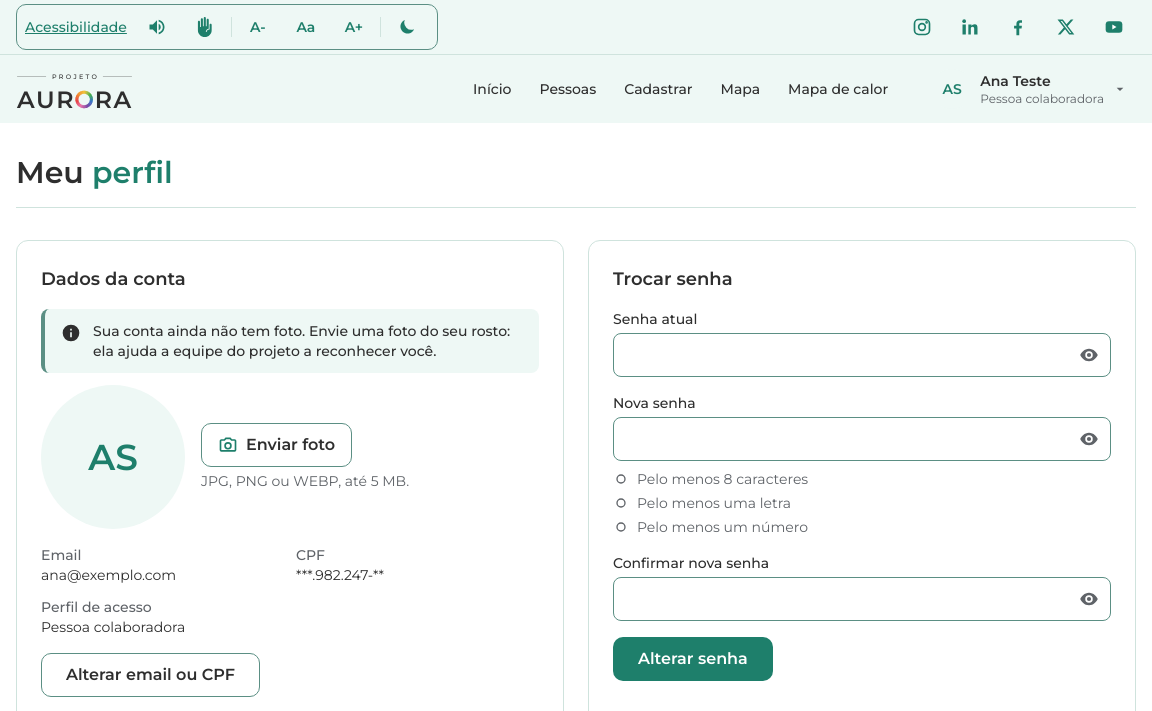
Meu perfil: alterar email ou CPF › mostra no campo a senha incorreta devolvida pela API
Click the button "Alterar email ou CPF".
click(150, 675)  # box [41,653,260,697]
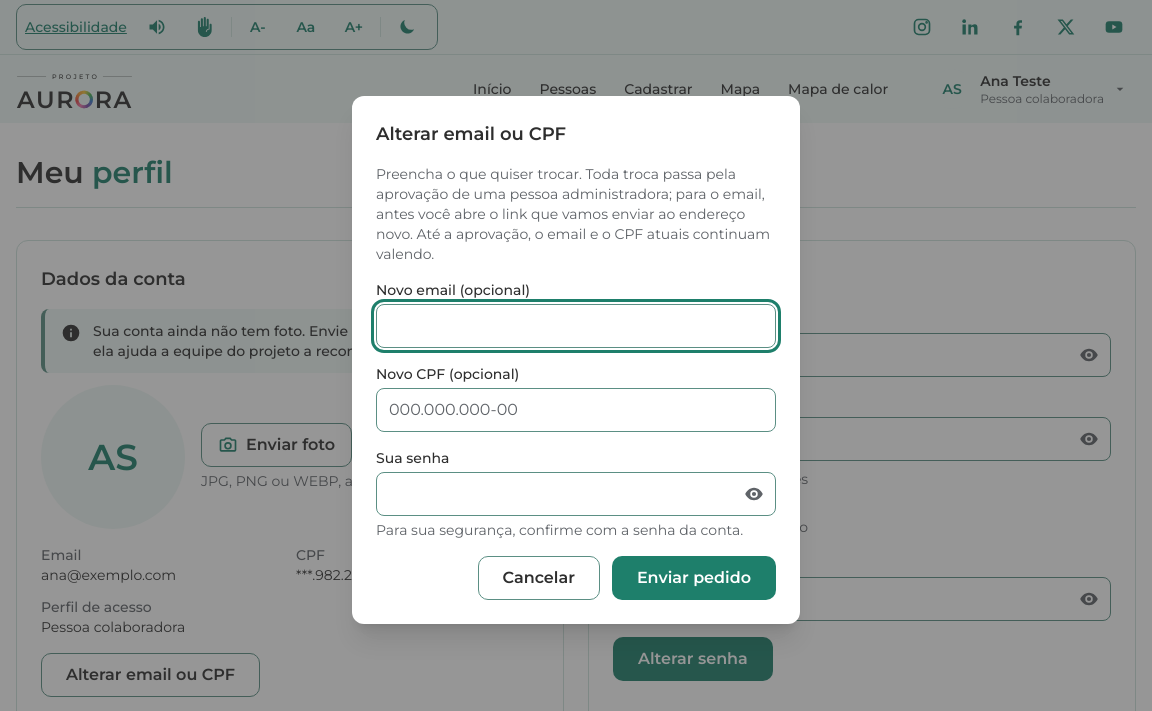
Type "x@exemplo.com" into the field labelled "Novo email (opcional)".
click(576, 326); type("x@exemplo.com")  # box [376,304,776,348]
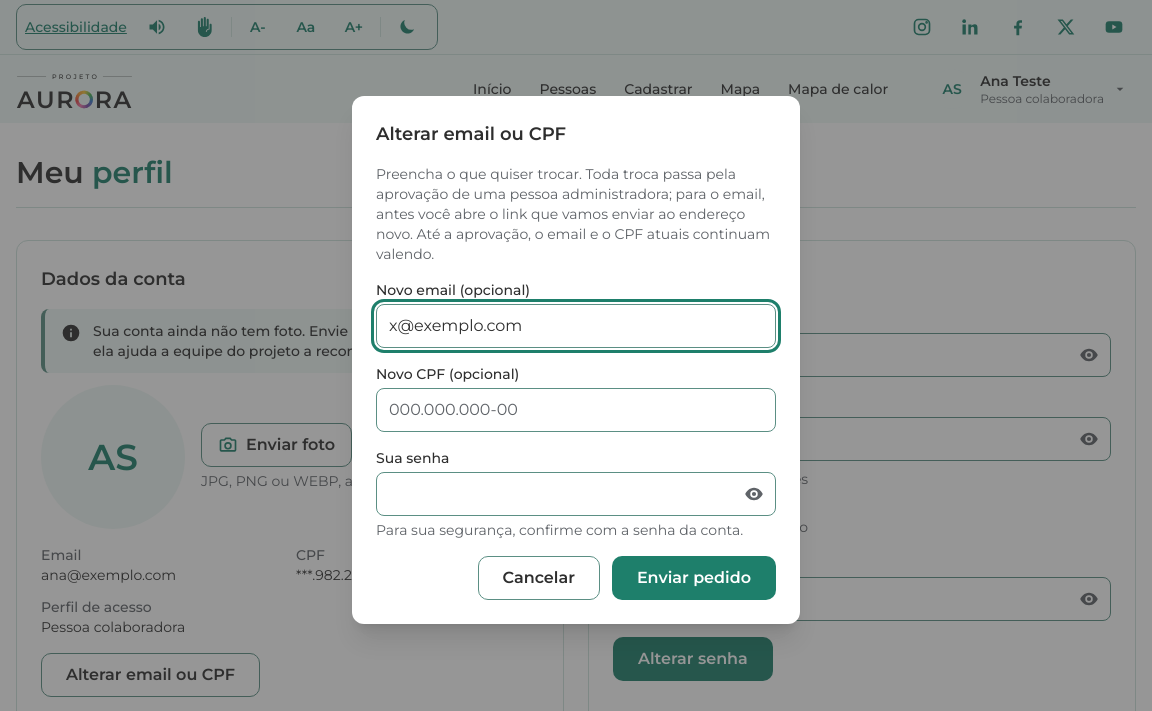
Type "errada123" into the password field labelled "Sua senha".
click(576, 494); type("errada123")  # box [376,472,776,516]
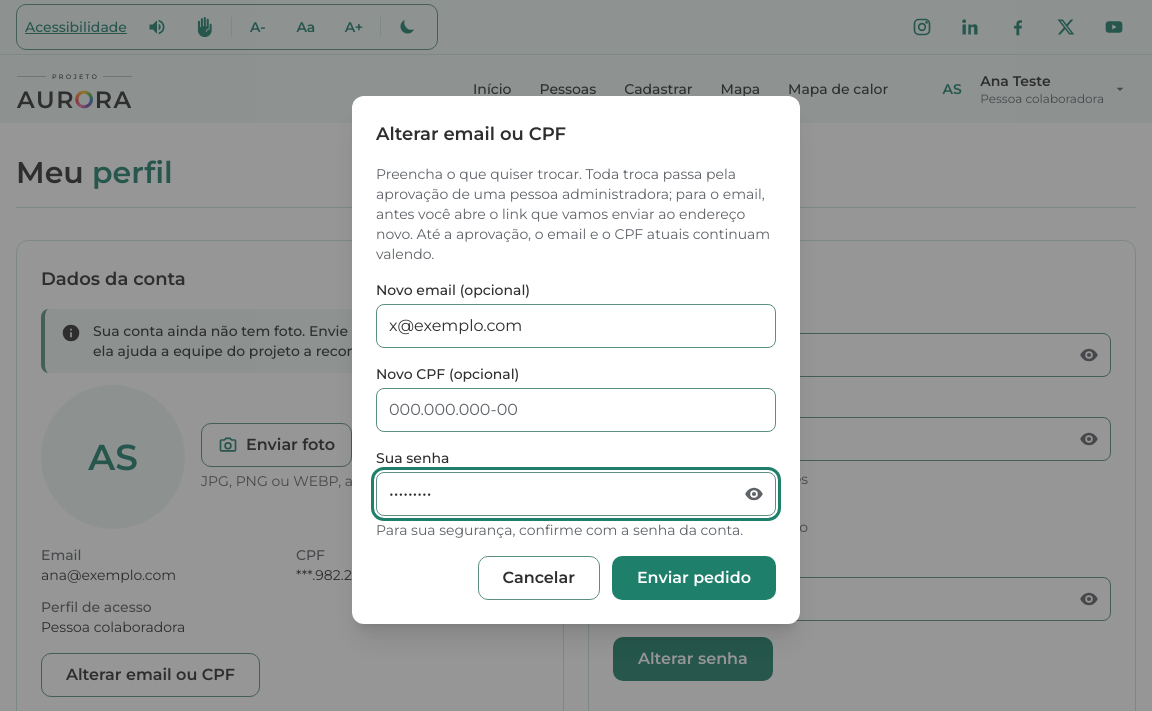
Click the button "Enviar pedido".
click(694, 578)  # box [612,556,776,600]
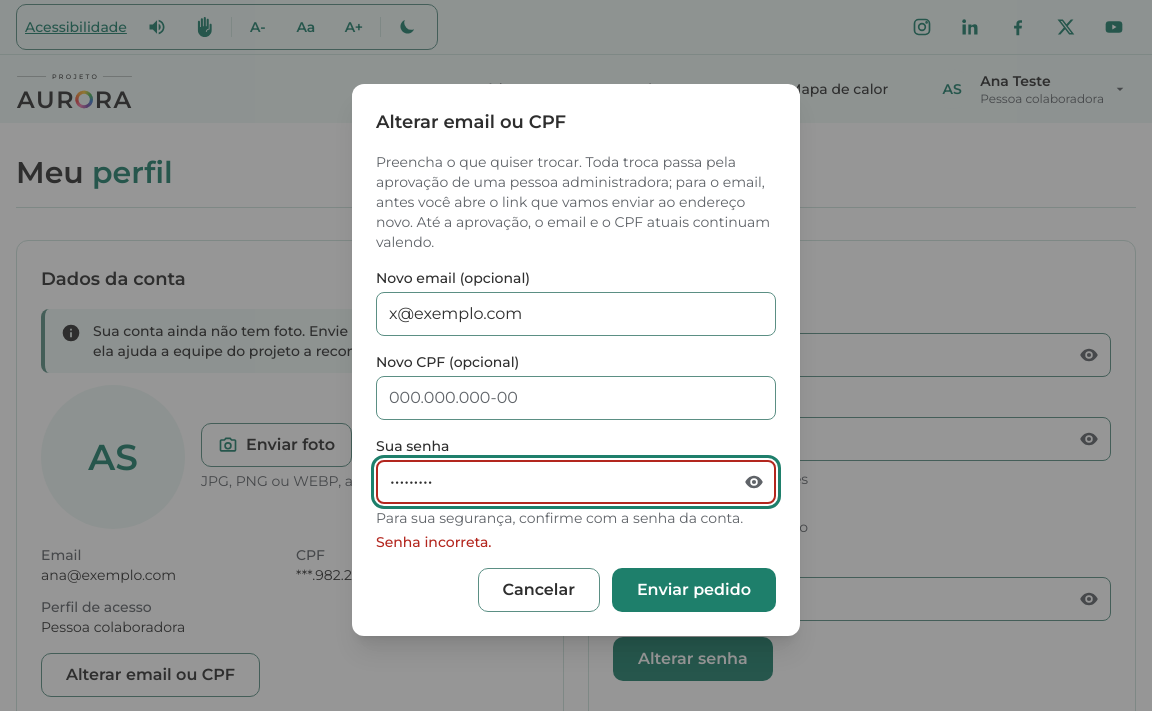
Result: the text "Senha incorreta." is shown at [376,533,492,551]
